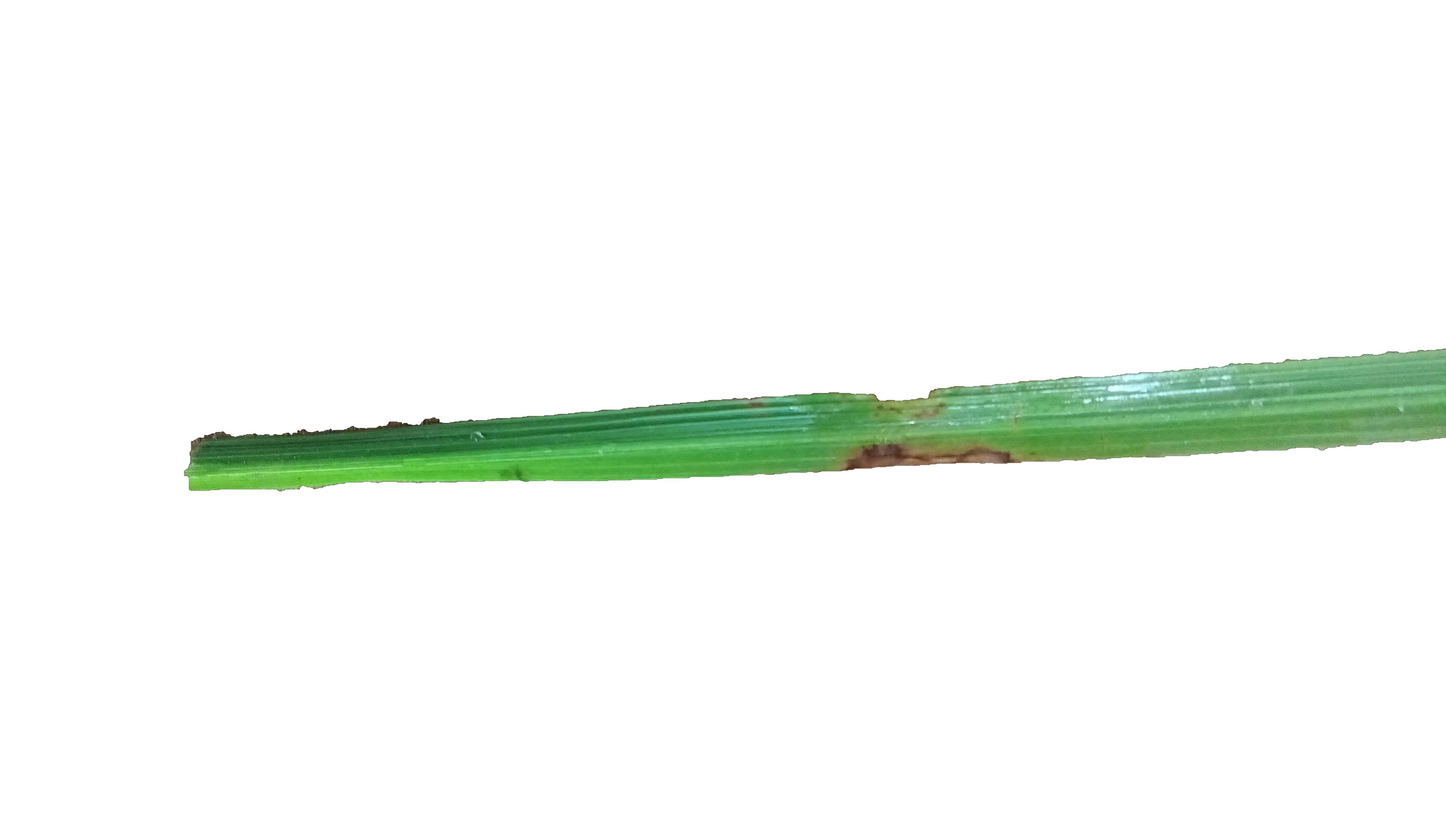Rice blast: (838, 438, 905, 476), (968, 446, 1036, 467)
